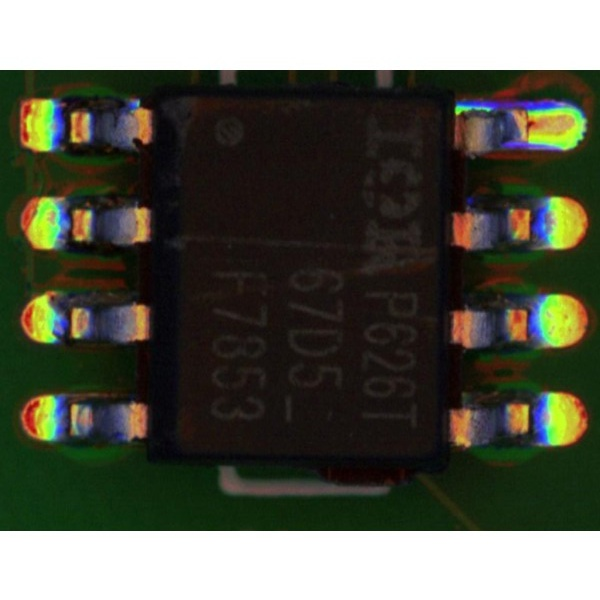Bad_podu: (520, 115, 550, 135)
